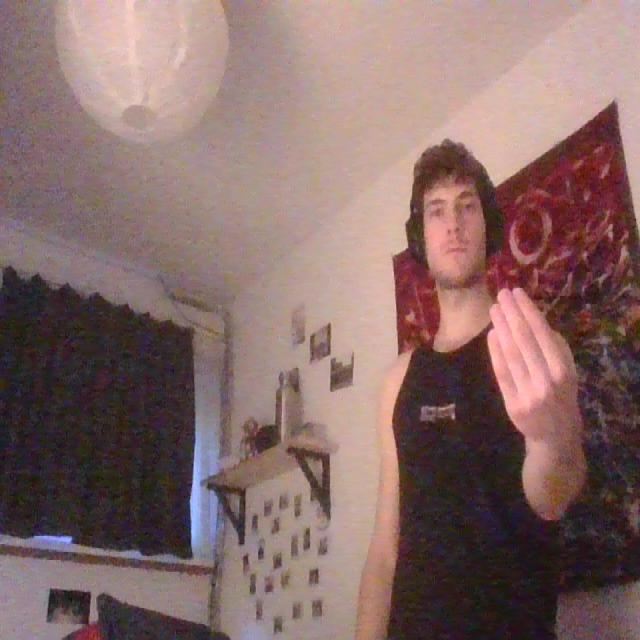forward: (480, 282, 586, 437)
